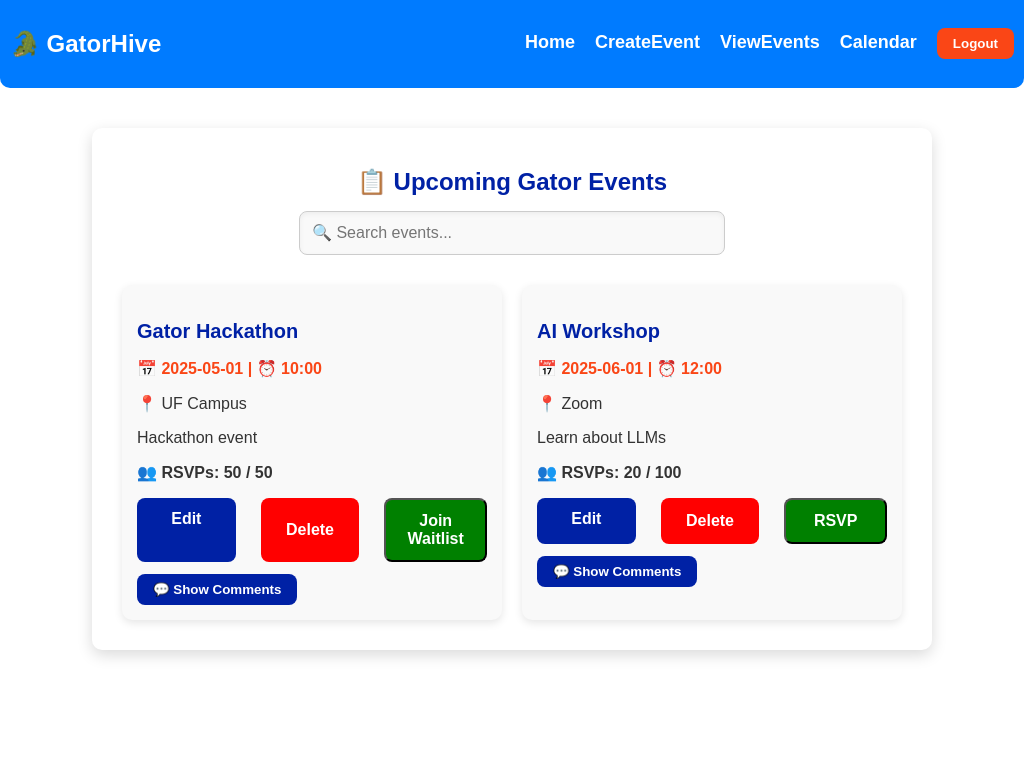
Waitlist Feature › shows 'Join Waitlist' button and handles the click
Step 1. Click the button "Join Waitlist" → [436, 530], box [384,498,487,562]
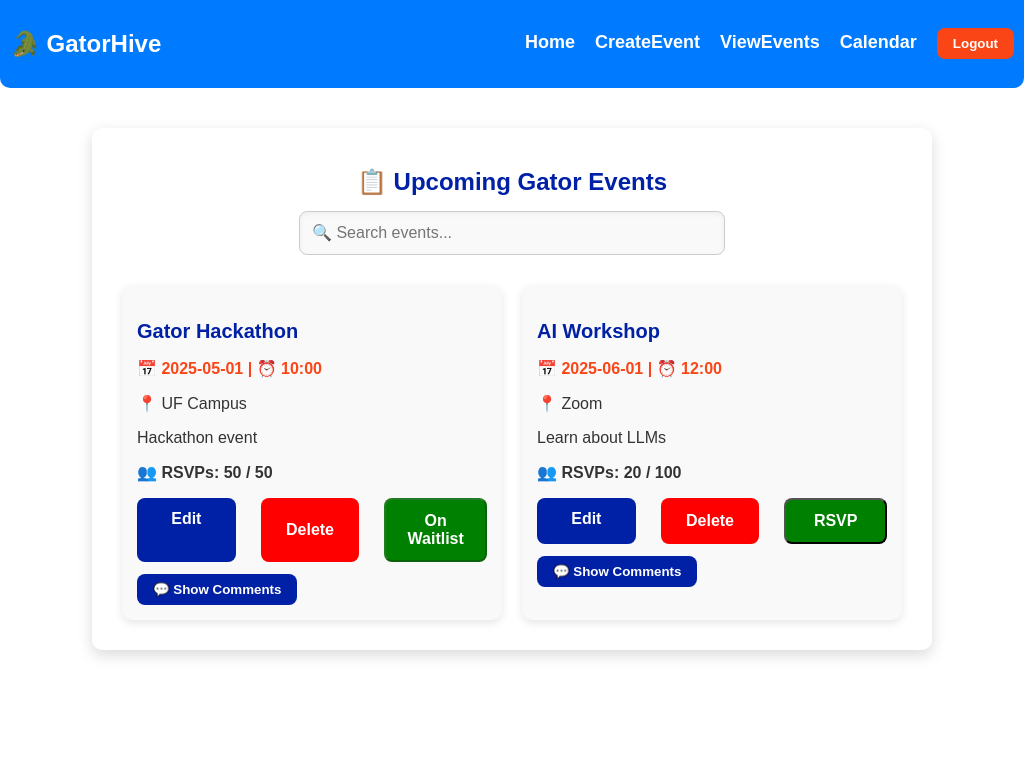
Now the button "On Waitlist" is shown, box [384,498,487,562]
